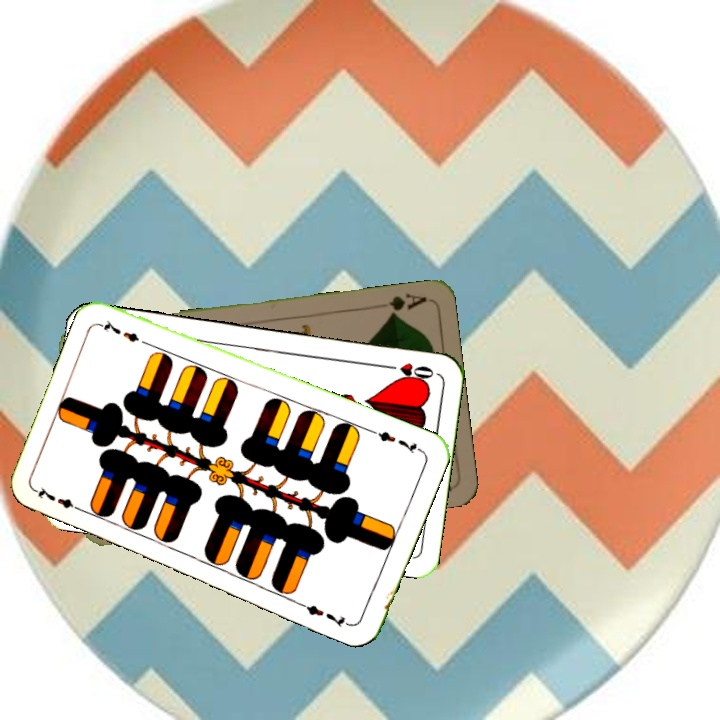E7: (32, 483, 88, 516), (368, 426, 425, 457)
GA: (383, 289, 429, 319)
HO: (379, 358, 437, 383)
